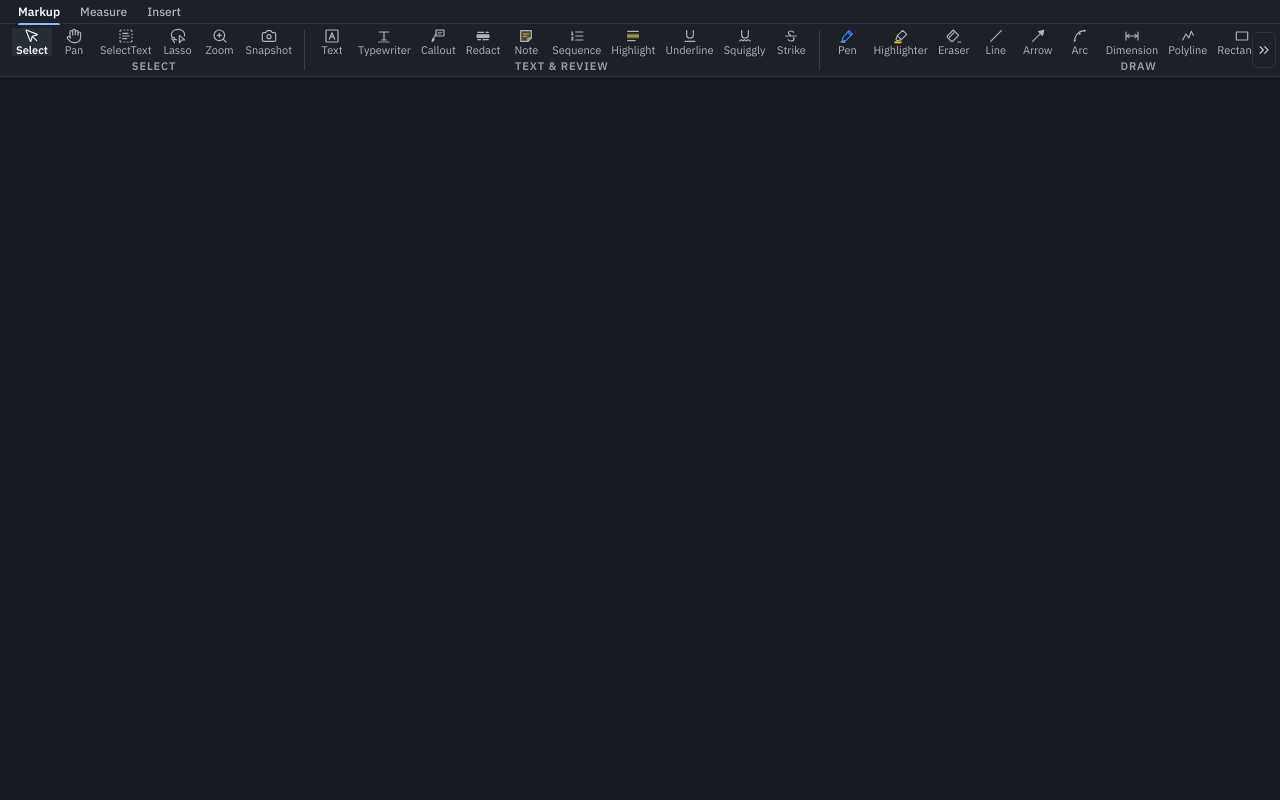
Test: Selector de sellos por secciones (ADR-0045) › muestra las secciones de Revu y Foxit con la miniatura real de cada sello y elige el sello
The width and height of the screenshot is (1280, 800).
Click the tab with test id "ribbon-tab-insert". click: (164, 12)
box: [137,0,191,24]
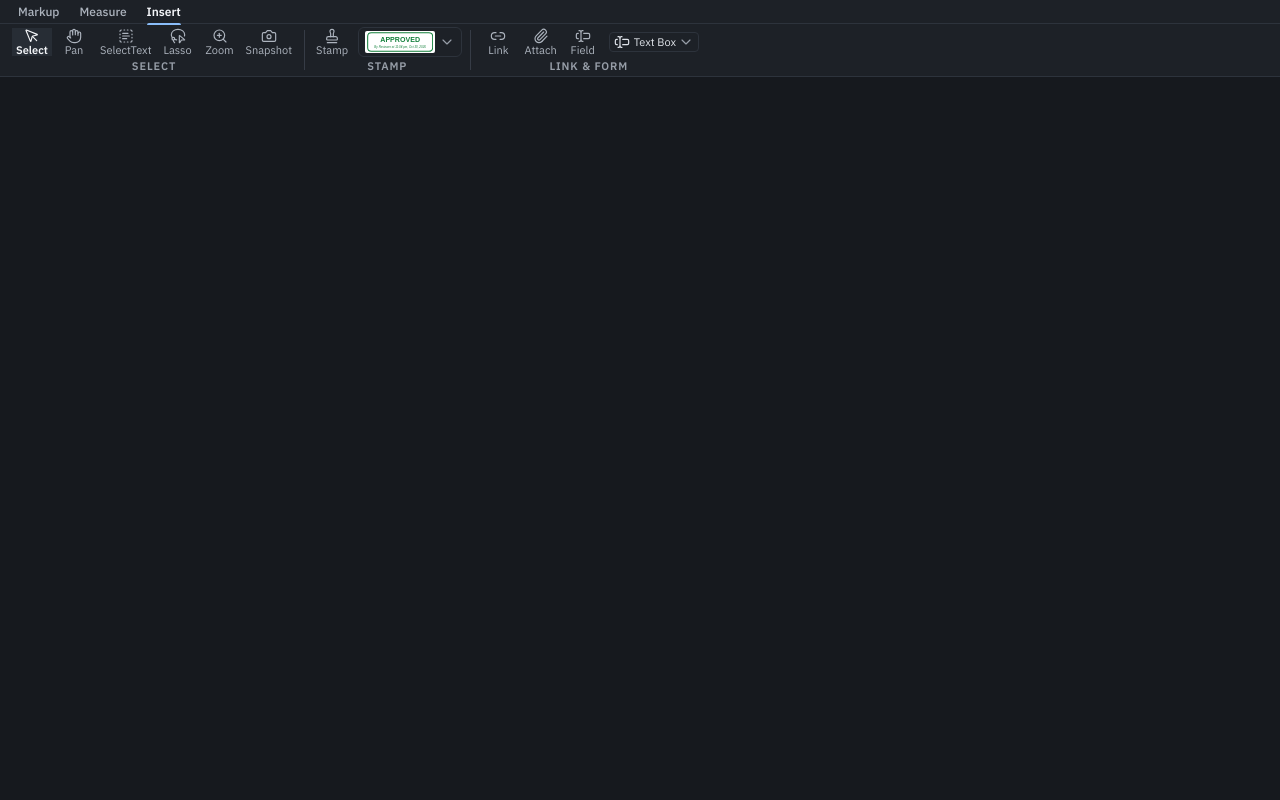
Click the button with test id "ribbon-stamp-picker". click: (410, 42)
box: [358,27,462,57]
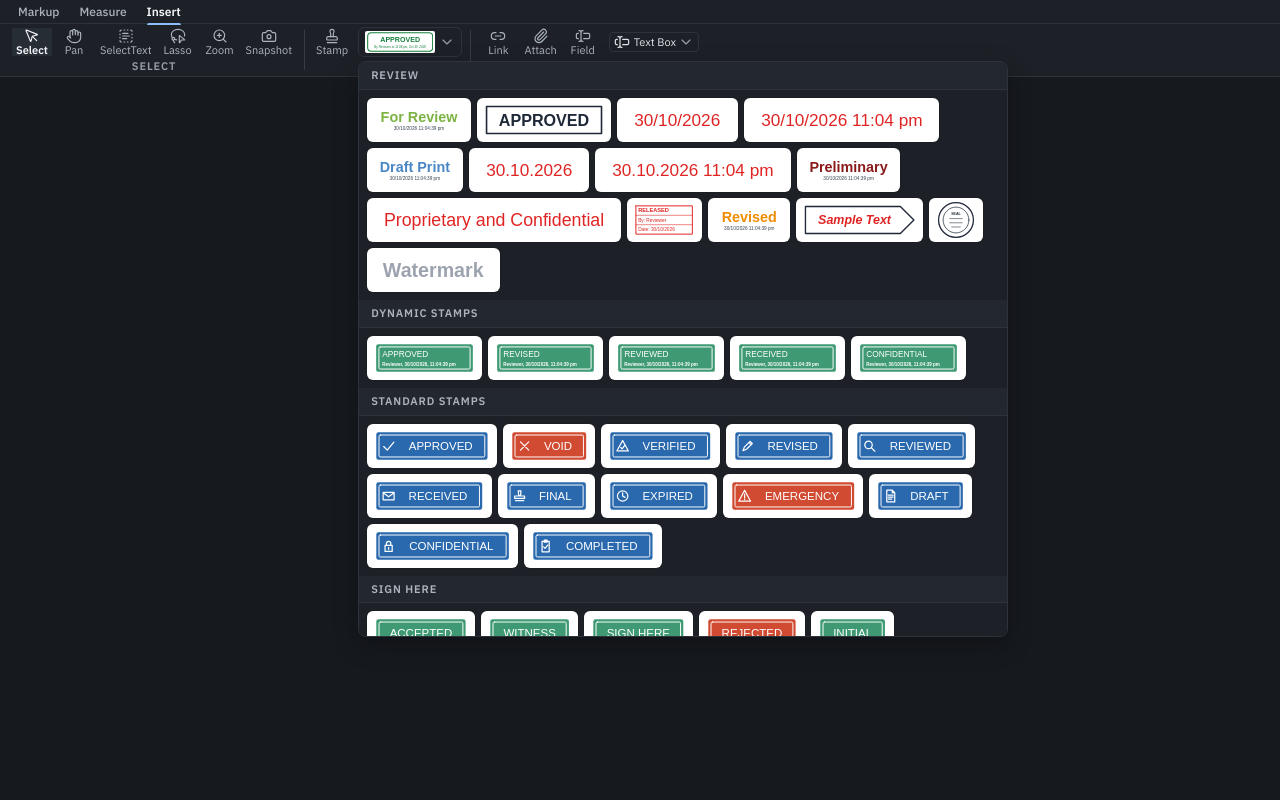
Click the button with test id "ribbon-stamp-picker-option-std-reviewed". click: (911, 446)
box: [848,424,975,468]
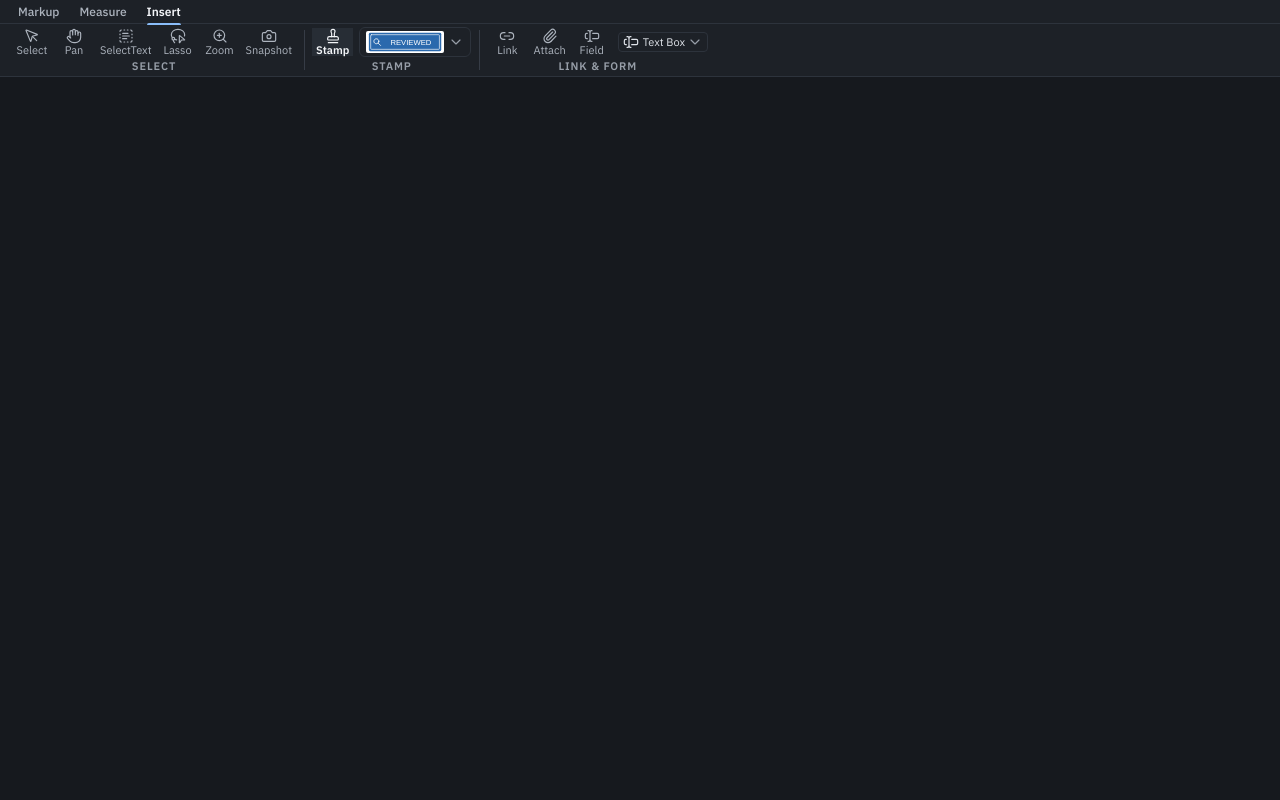
Result: the dialog with test id "ribbon-stamp-picker-list" is gone
